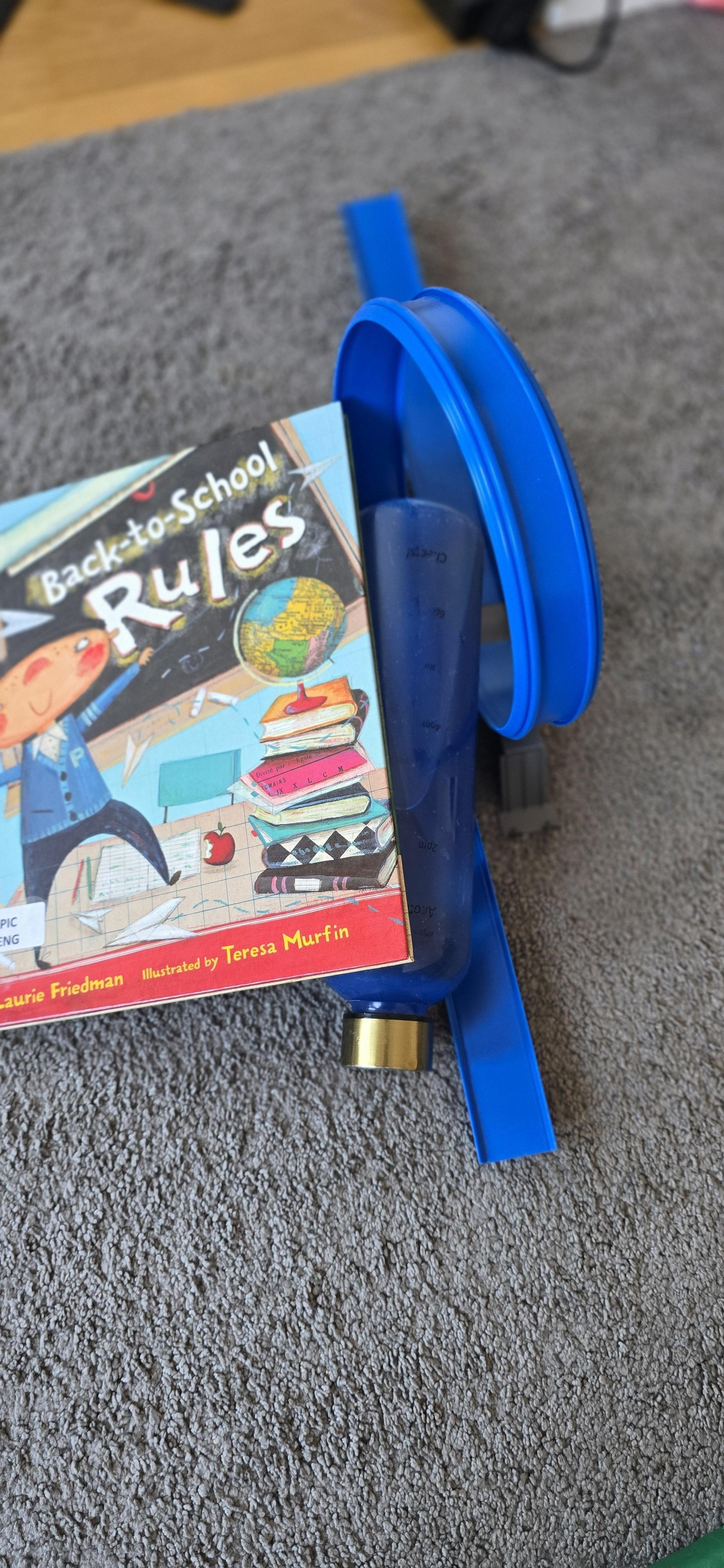bottle: (357, 506, 464, 1069)
